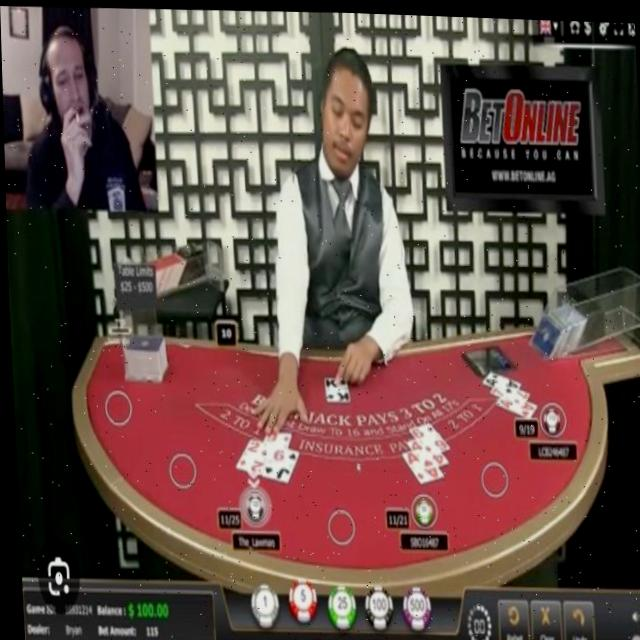Card-2: (233, 435, 262, 470)
Card-4: (403, 436, 445, 461)
Card-6: (406, 417, 446, 450)
Card-7: (488, 382, 527, 396)
Card-9: (256, 428, 289, 460)
Card-A: (400, 446, 440, 483), (494, 392, 533, 414), (480, 366, 519, 388)
Card-J: (259, 446, 296, 483)
Card-K: (322, 372, 348, 400)
